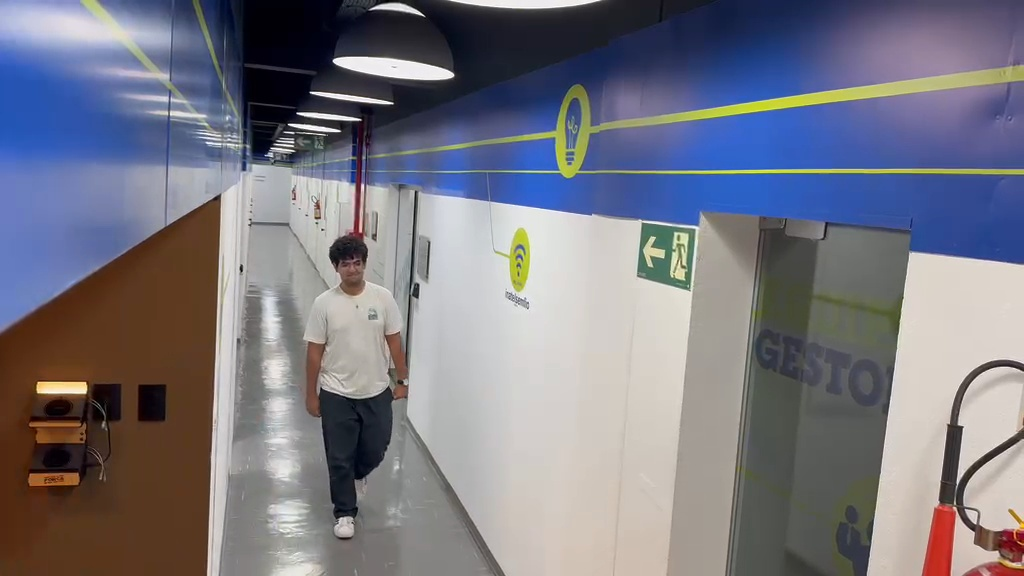person: (303, 234, 408, 541)
